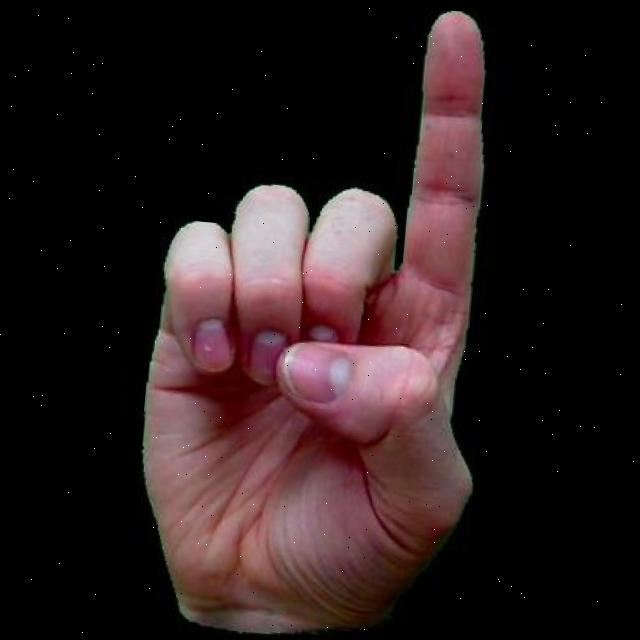d: (98, 0, 512, 640)
